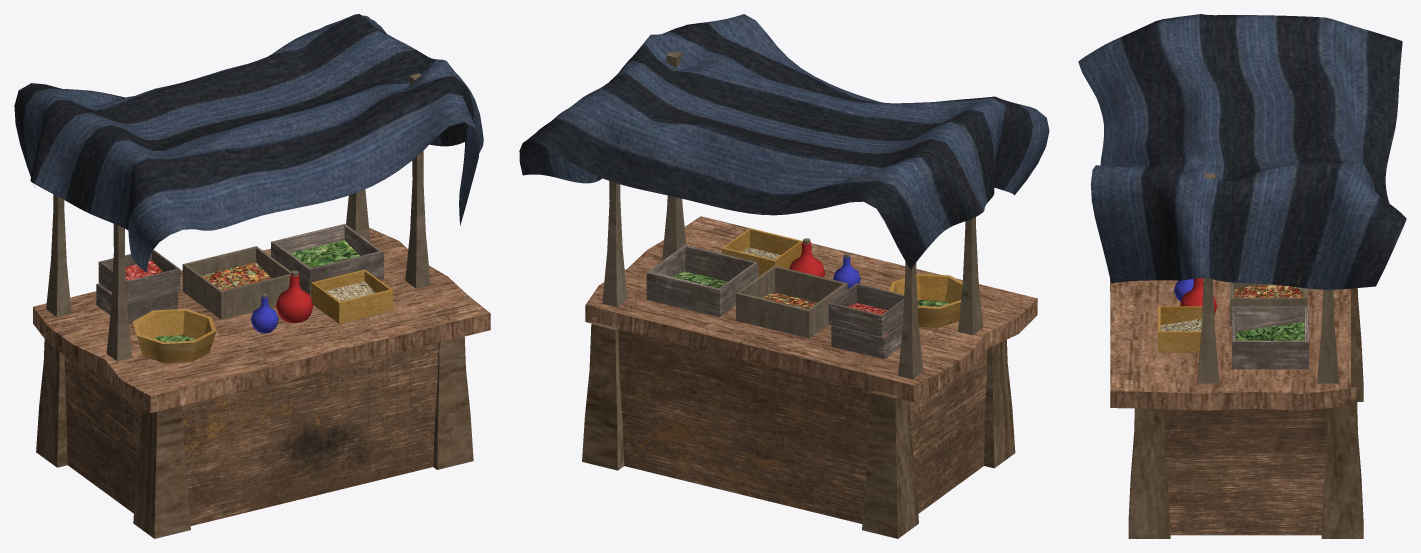
File: stall_shop.FBX
3 views of the same model, side by side, from view 1: azimuth 30°, elevation 25°; view 2: azimuth 150°, elevation 25°; view 3: azimuth 270°, elevation 25° (orthographic).
Visible parts, largest first — view 1: stall_shop; view 2: stall_shop; view 3: stall_shop.
Part boxes in pixels (x1,y1,x2,y2): stall_shop: (14, 14, 490, 538); stall_shop: (519, 14, 1049, 538); stall_shop: (1078, 14, 1406, 538).
Size of what is drawn, in the model's own units: 44.67 by 30.68 by 38.08.
